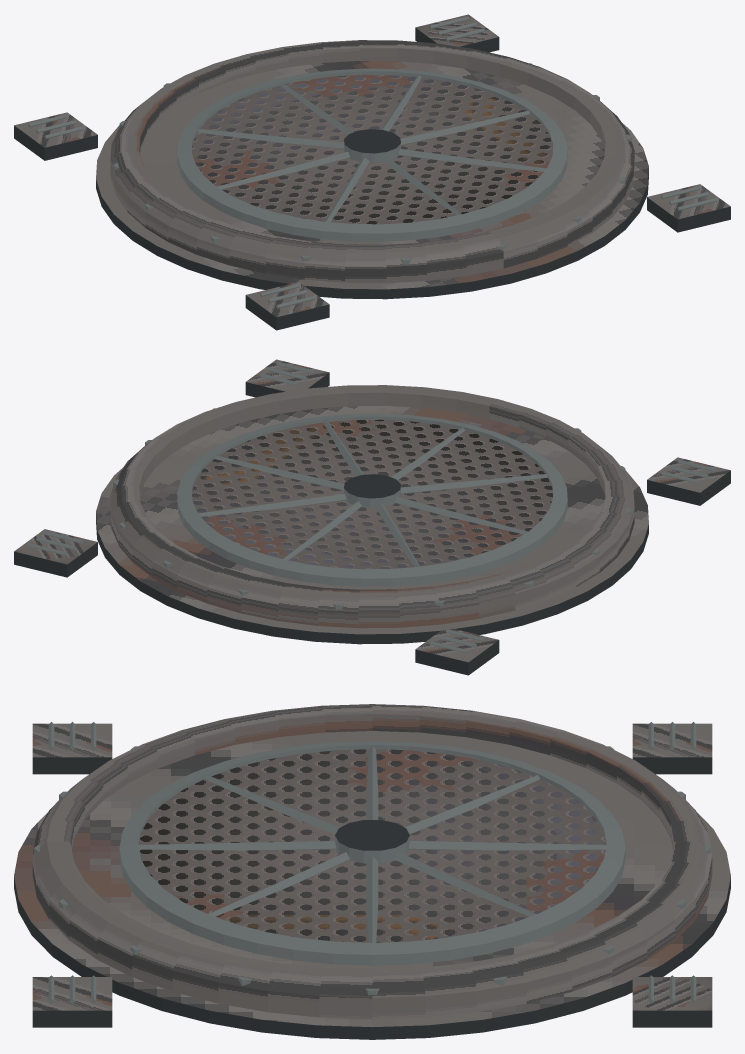
File: Building_AncientSmokeVent.glb
3 views of the same model, one above another, from view 1: azimuth 30°, elevation 25°; view 2: azimuth 150°, elevation 25°; view 3: azimuth 270°, elevation 25° (orthographic). The views are drawn at different scales.
Visible parts, largest first — view 1: AncientSmokeVent; view 2: AncientSmokeVent; view 3: AncientSmokeVent.
Part boxes in pixels (left/top/right/bottom): AncientSmokeVent: left=14, top=14, right=730, bottom=330; AncientSmokeVent: left=14, top=359, right=730, bottom=675; AncientSmokeVent: left=14, top=704, right=730, bottom=1039.
Size of the model in its own units: 3.06 by 0.25 by 3.06.
Materials: 1 (1 with a texture image).
